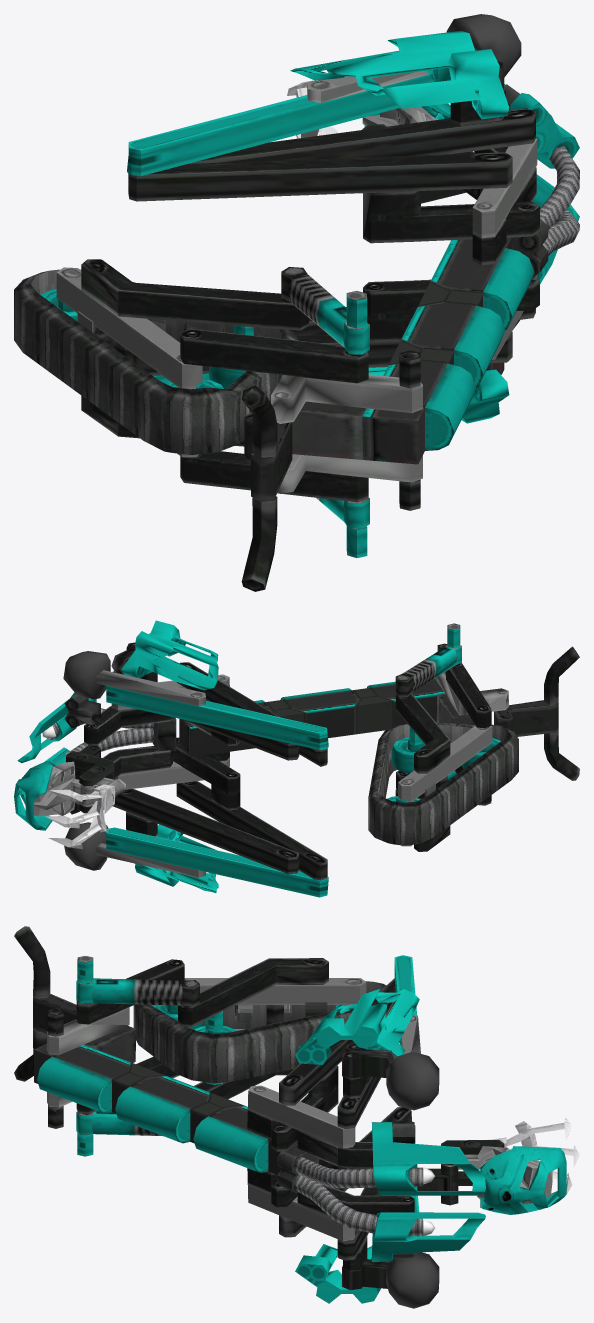
The model's file is rptl.obj.
3 renders of one model, top to bottom at view 1: azimuth 30°, elevation 25°; view 2: azimuth 150°, elevation 25°; view 3: azimuth 270°, elevation 25°, orthographic. The views are drawn at different scales.
Bounding box in the file's own units: 5.16 × 3.2 × 5.9.
